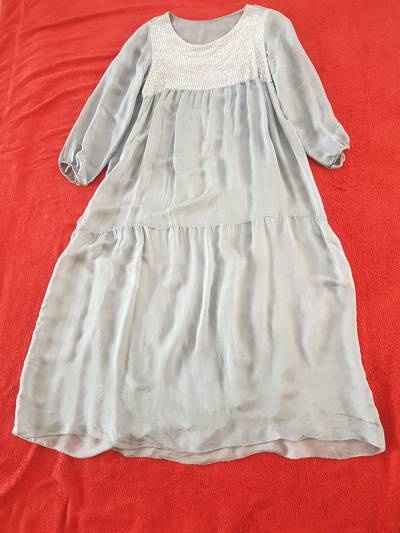Dress: (22, 8, 391, 493)
